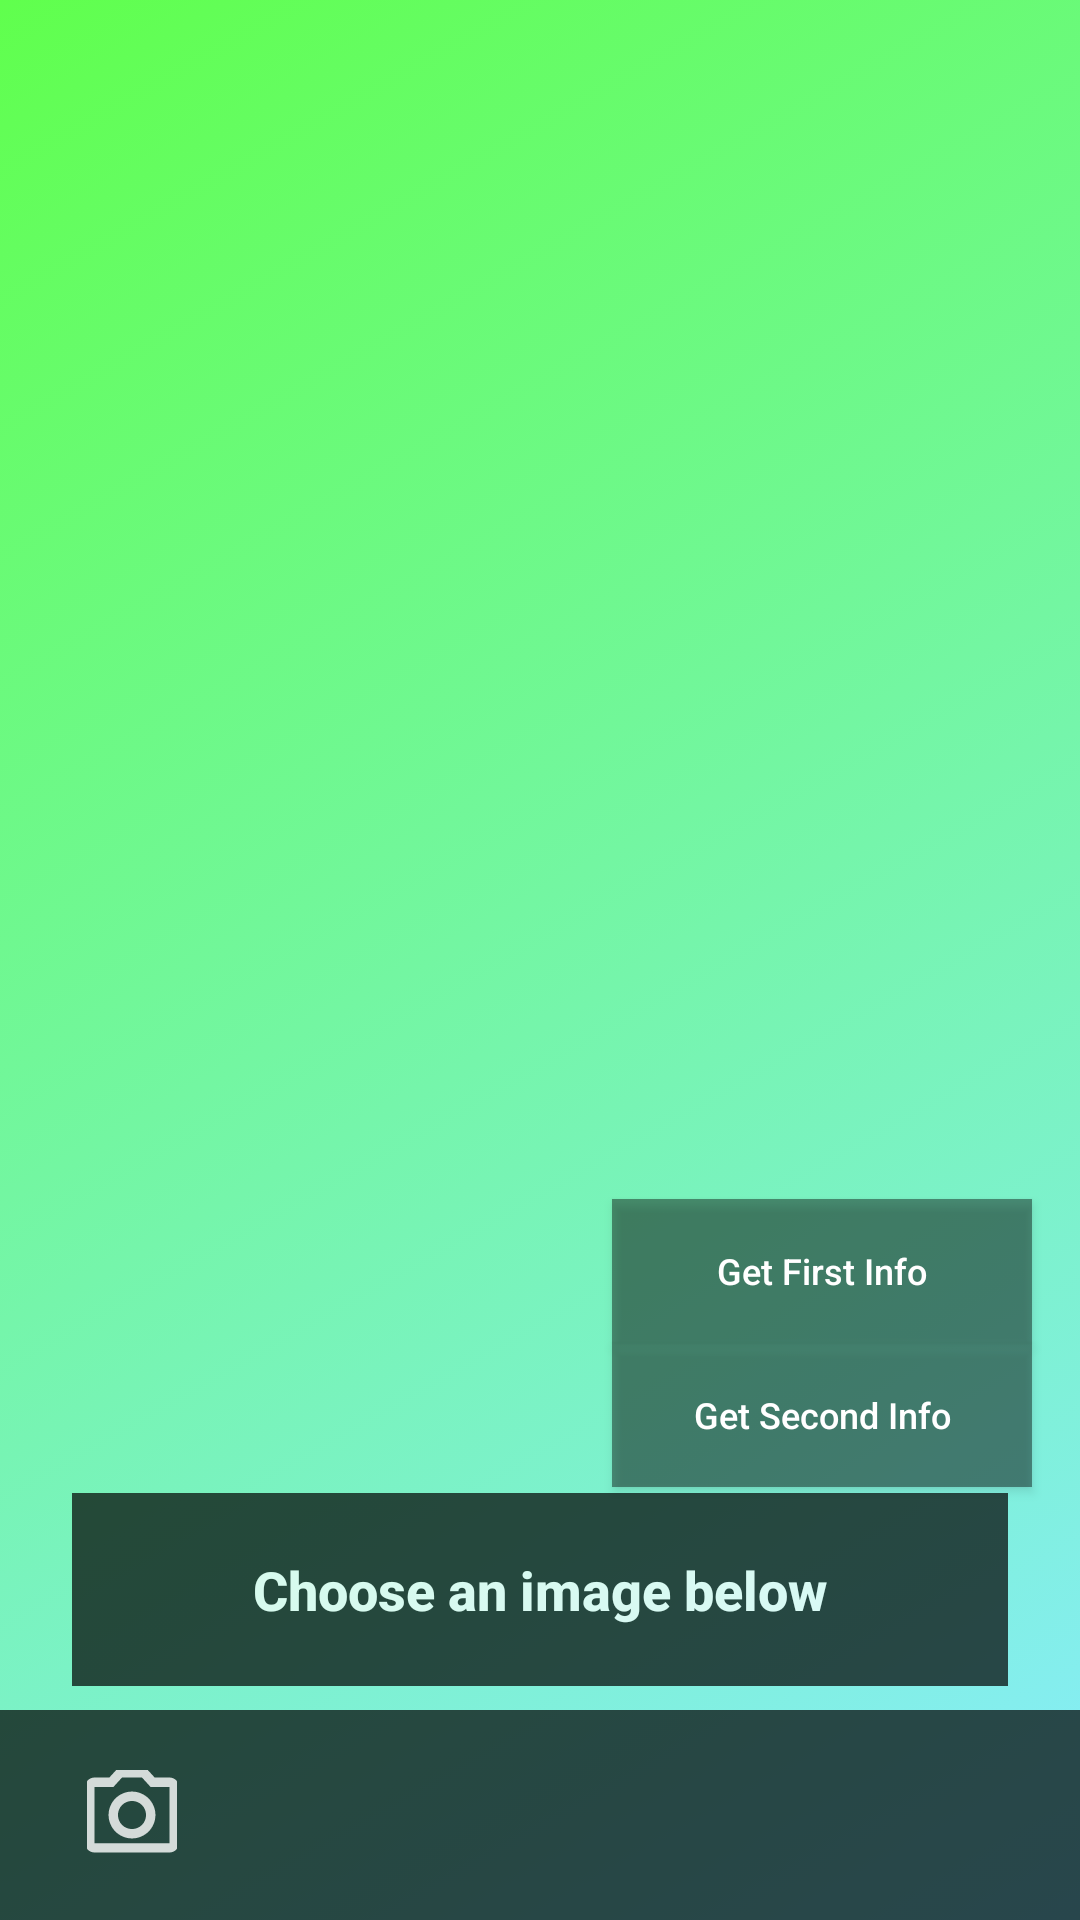

Icons on this 1080*1920 Android screen, each with the point to tap as point (x, y):
camera: point (132, 1811)
